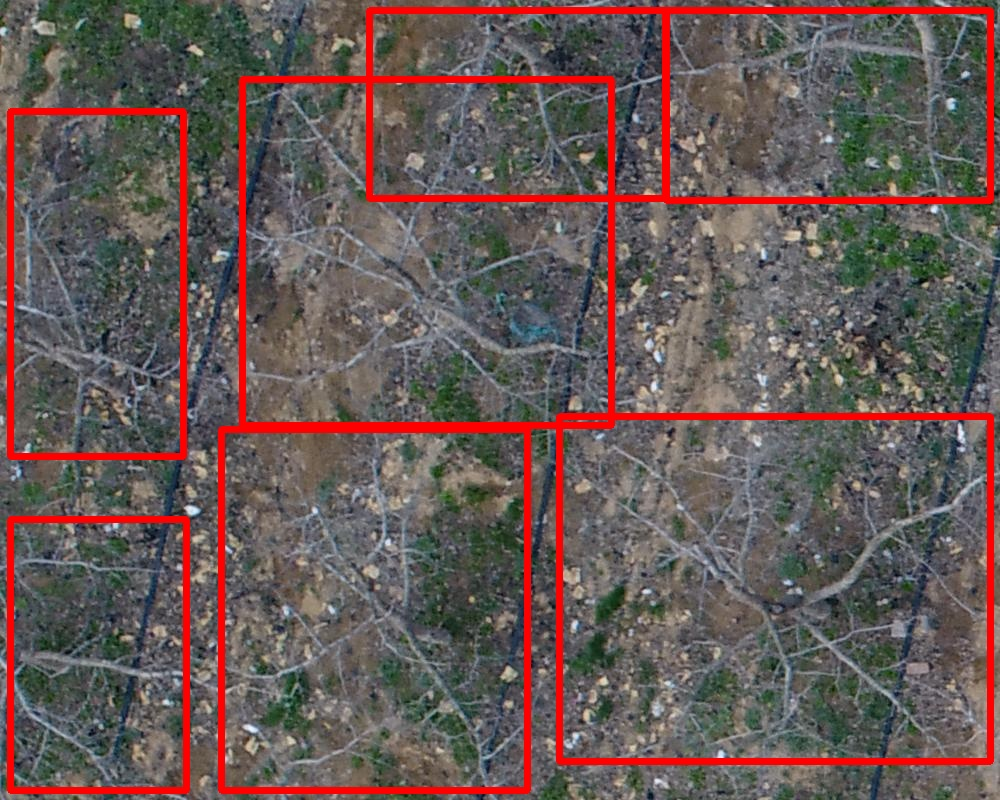apple: (559, 416, 990, 761), (242, 79, 611, 425), (221, 429, 527, 790), (666, 10, 990, 200), (10, 111, 183, 456), (369, 10, 665, 198), (10, 519, 186, 790)
